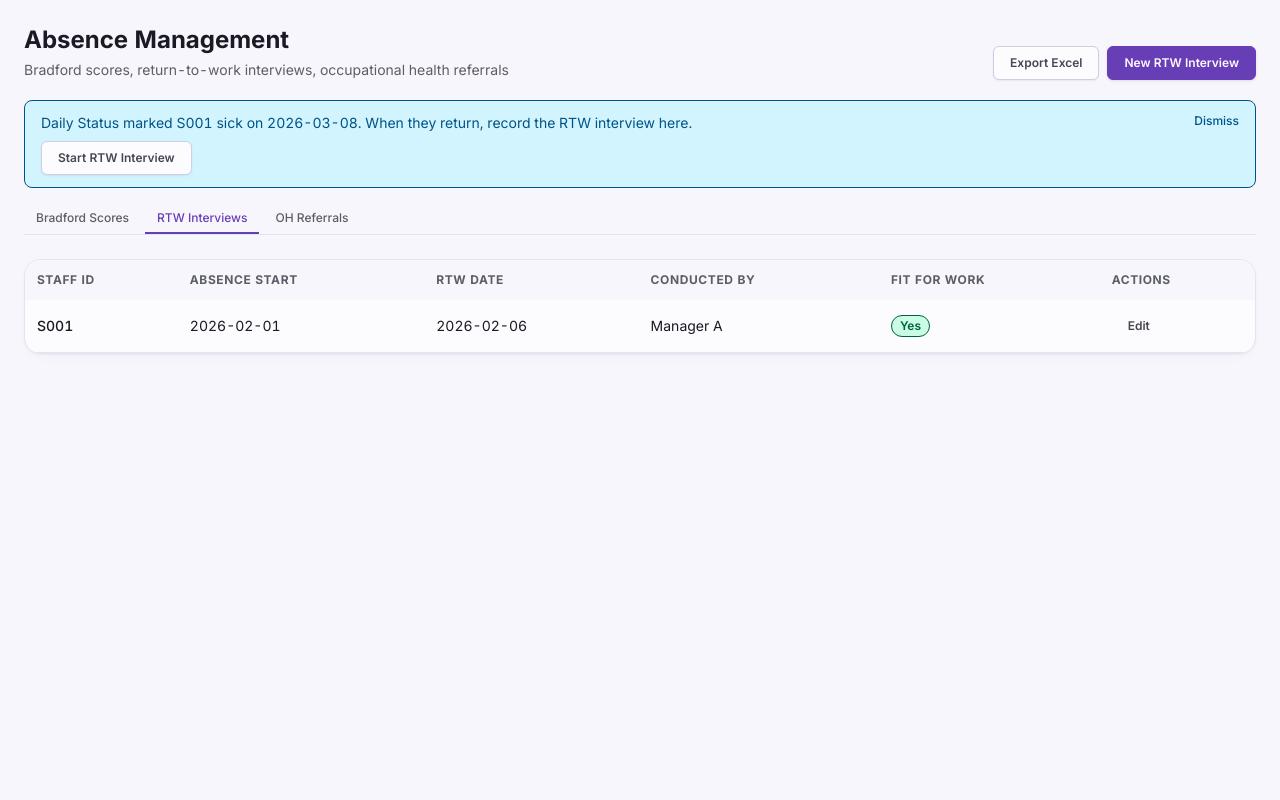
AbsenceManager › supports the Daily Status handoff into a prefilled RTW interview
Check: the text "Daily Status marked S001 sick on 2026-03-08" is shown, box [41,113,692,133]
Click the button "Start RTW Interview". click: x=116, y=158
box: [41,141,192,175]
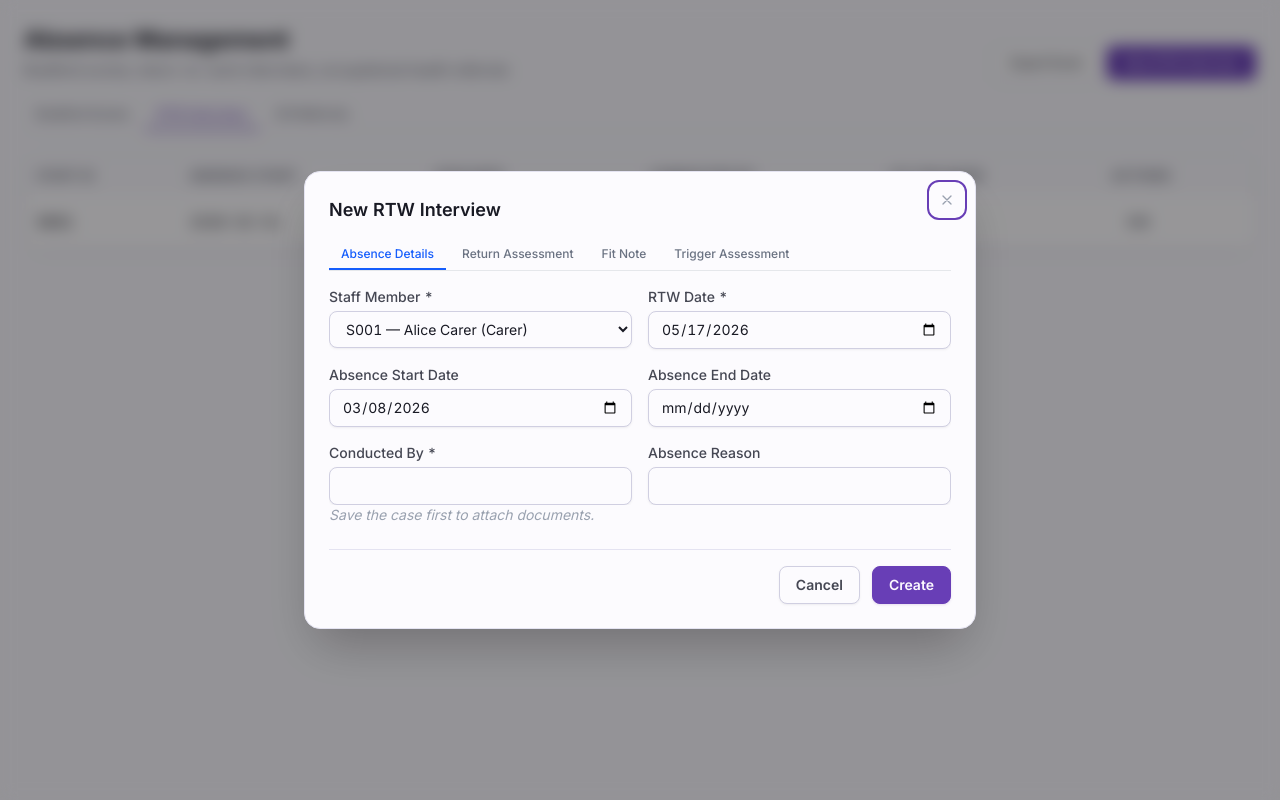
Check: the heading "New RTW Interview" is shown, box [329,199,501,220]
Check: the dropdown labelled "Staff Member *" shows "S001 — Alice Carer (Carer)", box [329,311,632,348]
Check: the date field labelled "Absence Start Date" holds "2026-03-08", box [329,389,632,427]
